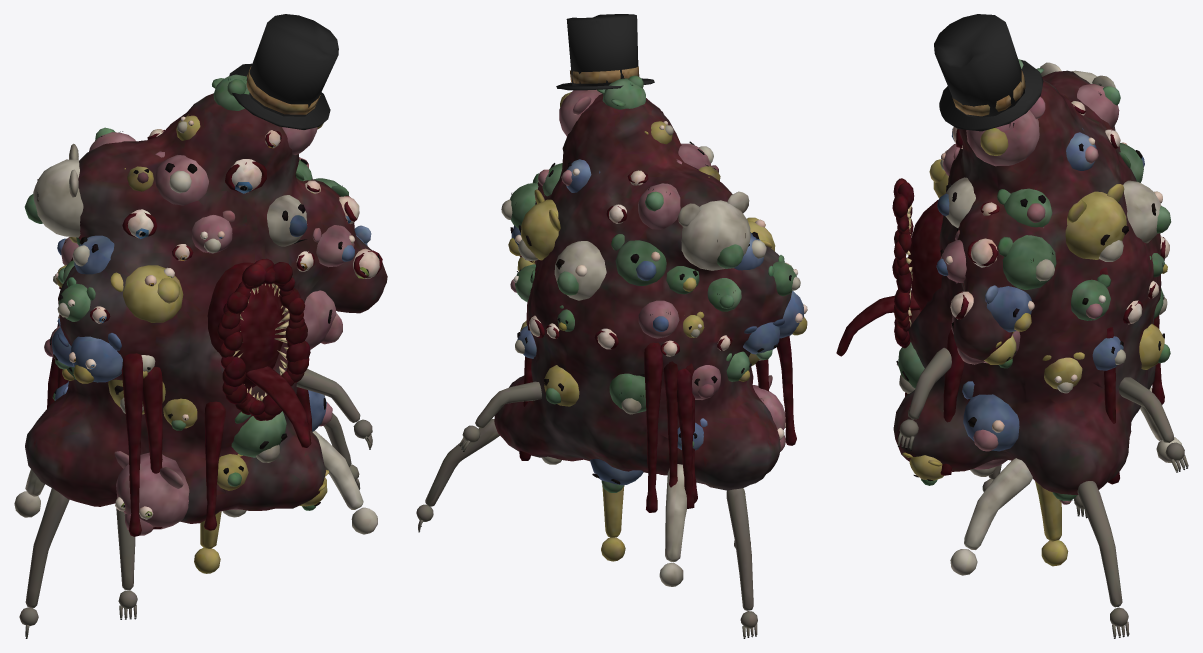
The model's file is director.glb.
3 views of the same model, side by side, from view 1: azimuth 30°, elevation 25°; view 2: azimuth 150°, elevation 25°; view 3: azimuth 270°, elevation 25° (orthographic). The views are drawn at different scales.
Visible parts, largest first — view 1: director; view 2: director; view 3: director.
Boxes of the visible parts, x1,y1,x2,y2 form: director: (14,14,387,638); director: (416,14,807,638); director: (836,14,1188,638).
Size of the model in its own units: 4.78 by 7.61 by 4.06.
1 material, 1 textured.
